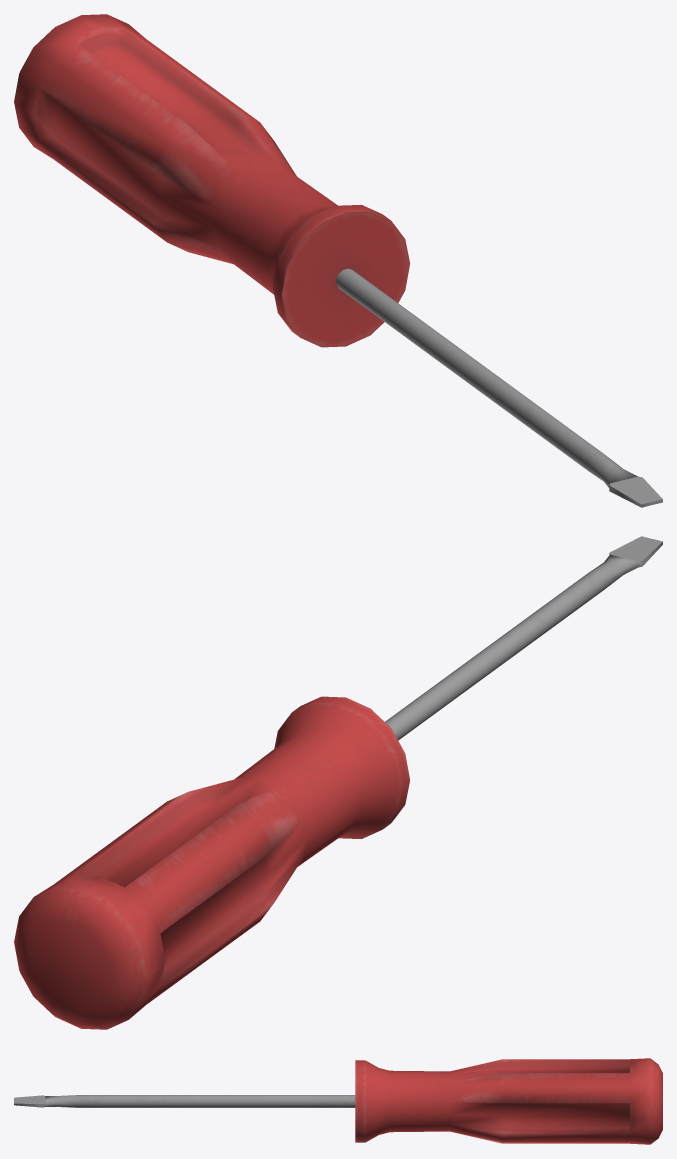
The model's file is philip screw.fbx.
3 views of the same model, one above another, from view 1: azimuth 30°, elevation 25°; view 2: azimuth 150°, elevation 25°; view 3: azimuth 270°, elevation 25° (orthographic). The views are drawn at different scales.
Parts seen in each view (by area): view 1: turnscrew2_Tools_0; view 2: turnscrew2_Tools_0; view 3: turnscrew2_Tools_0.
Boxes of the visible parts, left/top/right/bottom form: turnscrew2_Tools_0: left=14, top=14, right=662, bottom=507; turnscrew2_Tools_0: left=14, top=536, right=662, bottom=1029; turnscrew2_Tools_0: left=14, top=1058, right=662, bottom=1144.
Bounding box in the file's own units: 269 × 269 × 2017.
Materials: 1 (1 with a texture image).
